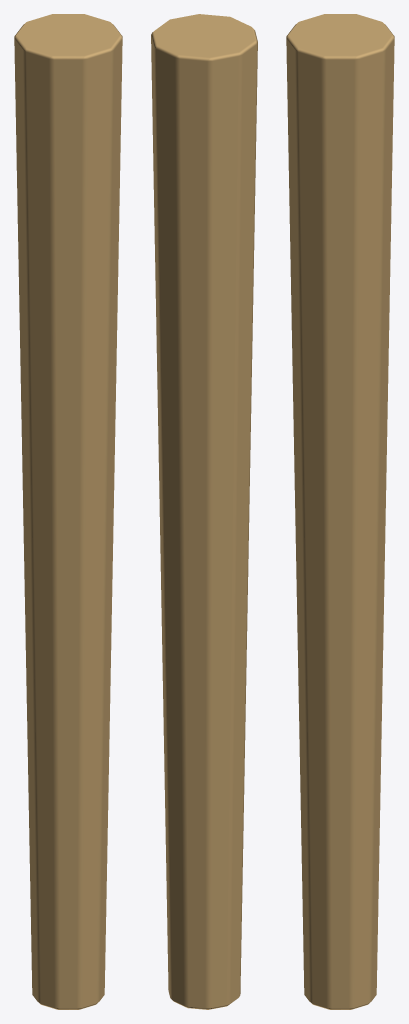
The model's file is GoldFxStream.glb.
3 renders of one model, left to right at view 1: azimuth 90°, elevation 25°; view 2: azimuth 150°, elevation 25°; view 3: azimuth 270°, elevation 25°, orthographic.
Visible parts, largest first — view 1: GoldFxStream.001; view 2: GoldFxStream.001; view 3: GoldFxStream.001.
Part boxes in pixels (<box>): GoldFxStream.001: <box>14,14,122,1009</box>; GoldFxStream.001: <box>151,14,257,1009</box>; GoldFxStream.001: <box>286,14,394,1009</box>.
Size of the model in its own units: 0.0988 by 1 by 0.102.
